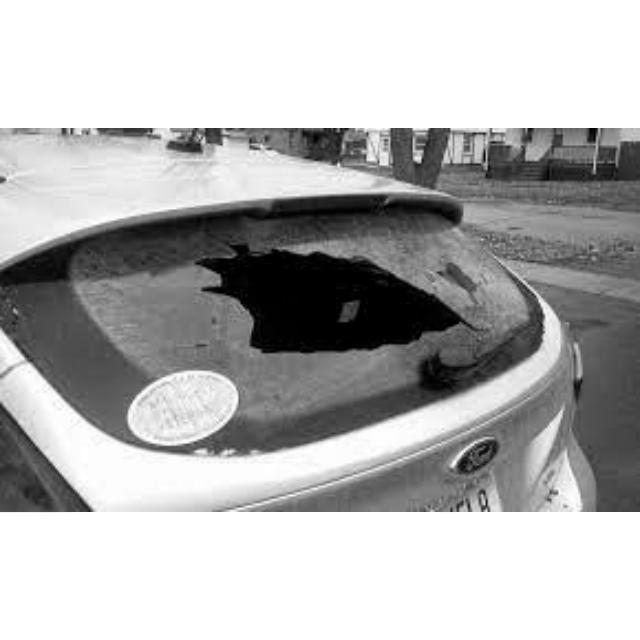Rear-windscreen-Damage: (16, 190, 543, 459)
